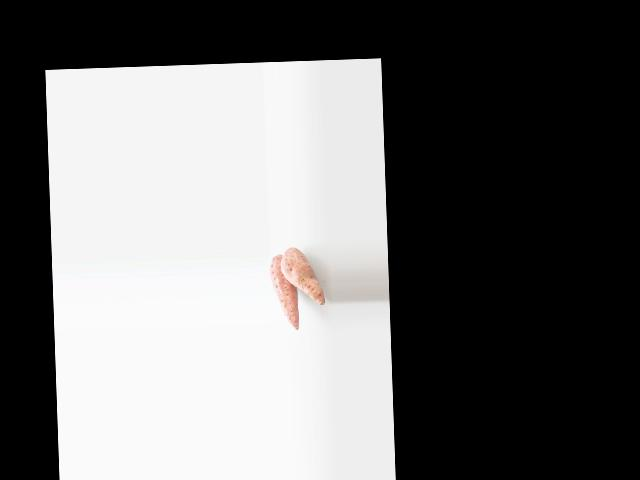sweet_potato: (270, 254, 299, 326)
